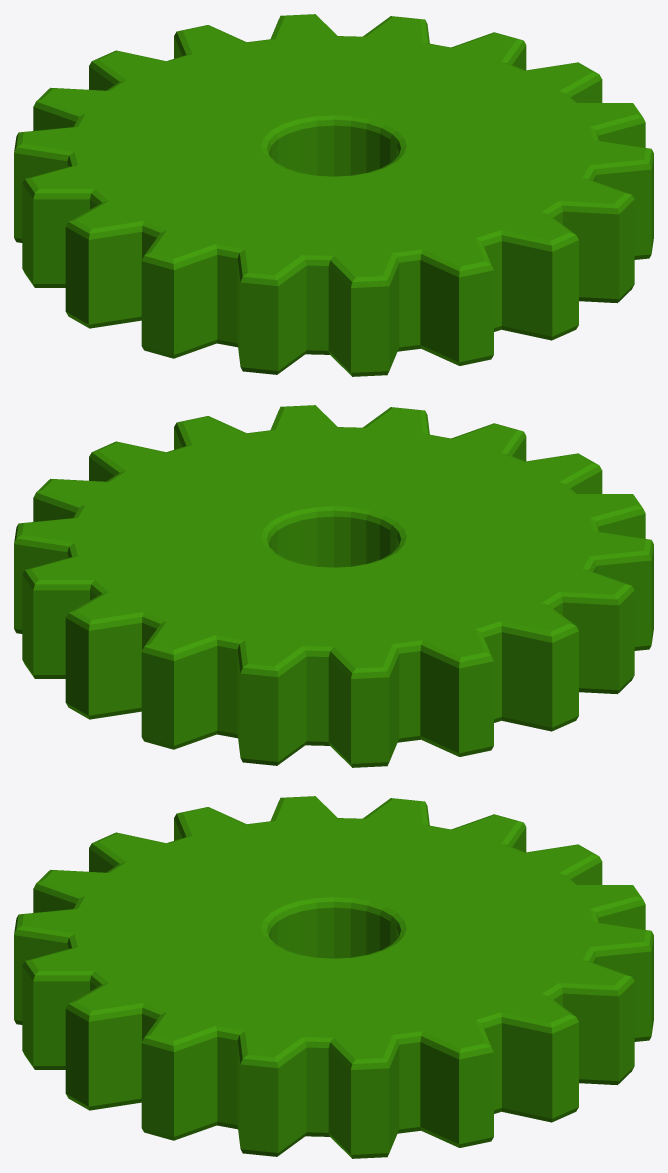
File: engranaje.glb
3 renders of one model, top to bottom at view 1: azimuth 30°, elevation 25°; view 2: azimuth 150°, elevation 25°; view 3: azimuth 270°, elevation 25°, orthographic.
Visible parts, largest first — view 1: engranaje; view 2: engranaje; view 3: engranaje.
Boxes of the visible parts, box(x1,y1,x2,y2) form: engranaje: box(14, 14, 653, 376); engranaje: box(14, 405, 653, 767); engranaje: box(14, 796, 653, 1158).
Bounding box in the file's own units: 0.1844 × 0.0315 × 0.1847.
